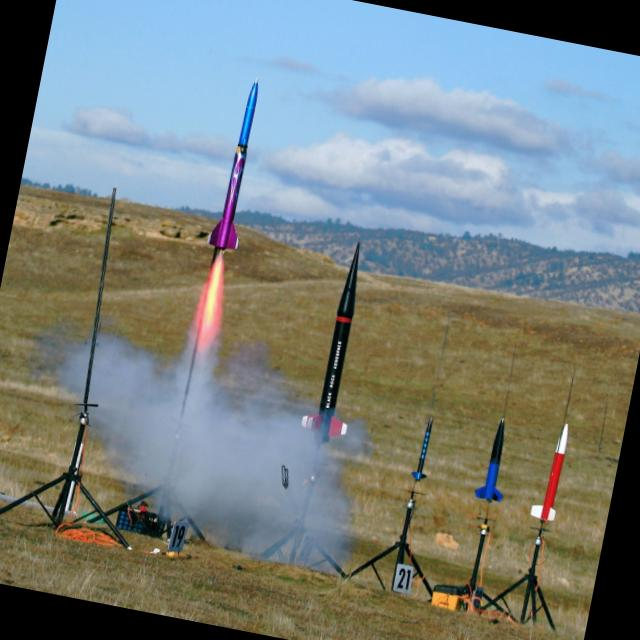rocket: (186, 70, 274, 362), (302, 231, 390, 479), (527, 408, 585, 540), (469, 410, 519, 519), (397, 409, 444, 515)
